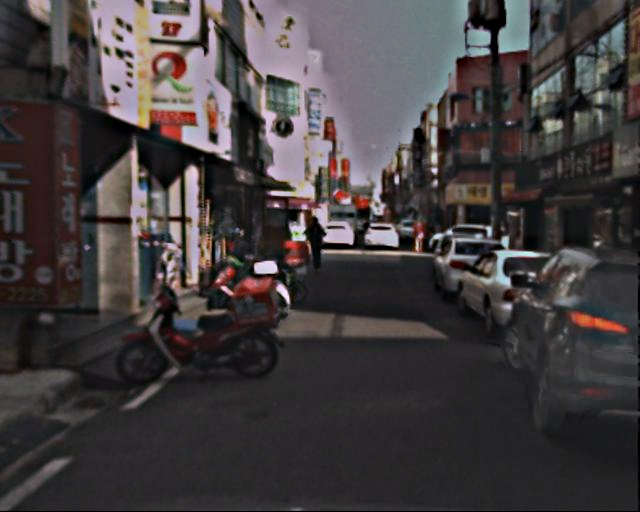person: (307, 215, 331, 271), (414, 220, 436, 256)
